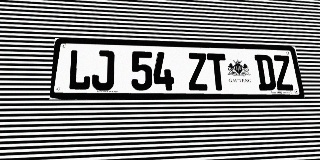4: (153, 52, 174, 90)
5: (131, 51, 153, 90)
D: (254, 55, 277, 90)
J: (91, 50, 115, 90)
L: (67, 49, 92, 90)
T: (207, 53, 229, 90)
Z: (187, 53, 209, 90), (272, 55, 295, 90)
